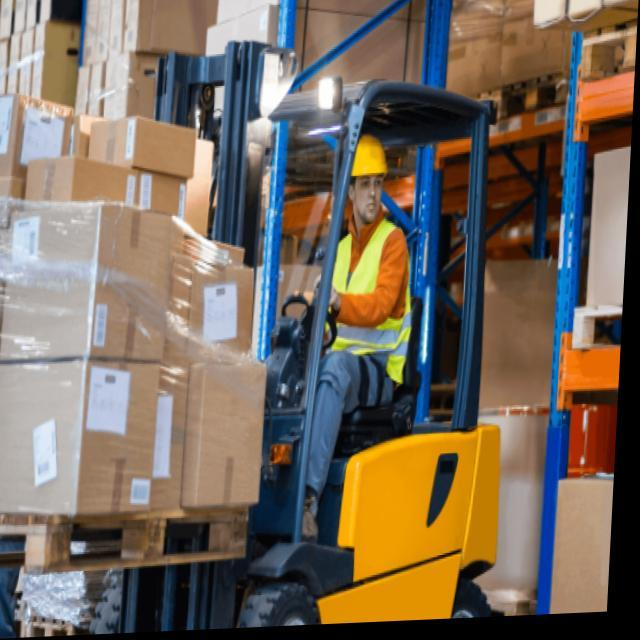boots: (262, 474, 328, 545)
helmet: (343, 128, 392, 229)
vest: (312, 215, 421, 394)
